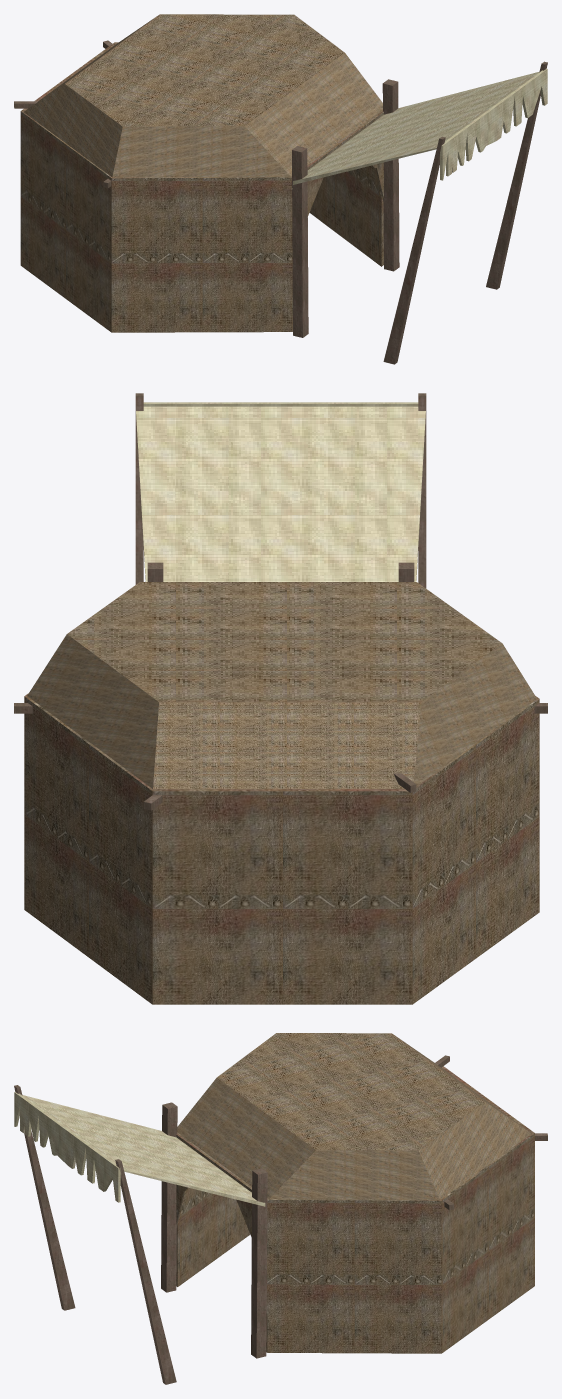
The model's file is architecture_tent_guard.glb.
The picture shows the model from 3 angles, top to bottom: view 1: azimuth 30°, elevation 25°; view 2: azimuth 150°, elevation 25°; view 3: azimuth 270°, elevation 25°; orthographic projection. The views are drawn at different scales.
Visible parts, largest first — view 1: tent_guard; view 2: tent_guard; view 3: tent_guard.
Boxes of the visible parts, x1,y1,x2,y2 form: tent_guard: (14,14,547,364); tent_guard: (14,393,547,1004); tent_guard: (14,1033,547,1384).
Size of the model in its own units: 9.44 by 5.75 by 11.86.
Materials: 4 (4 with a texture image).
